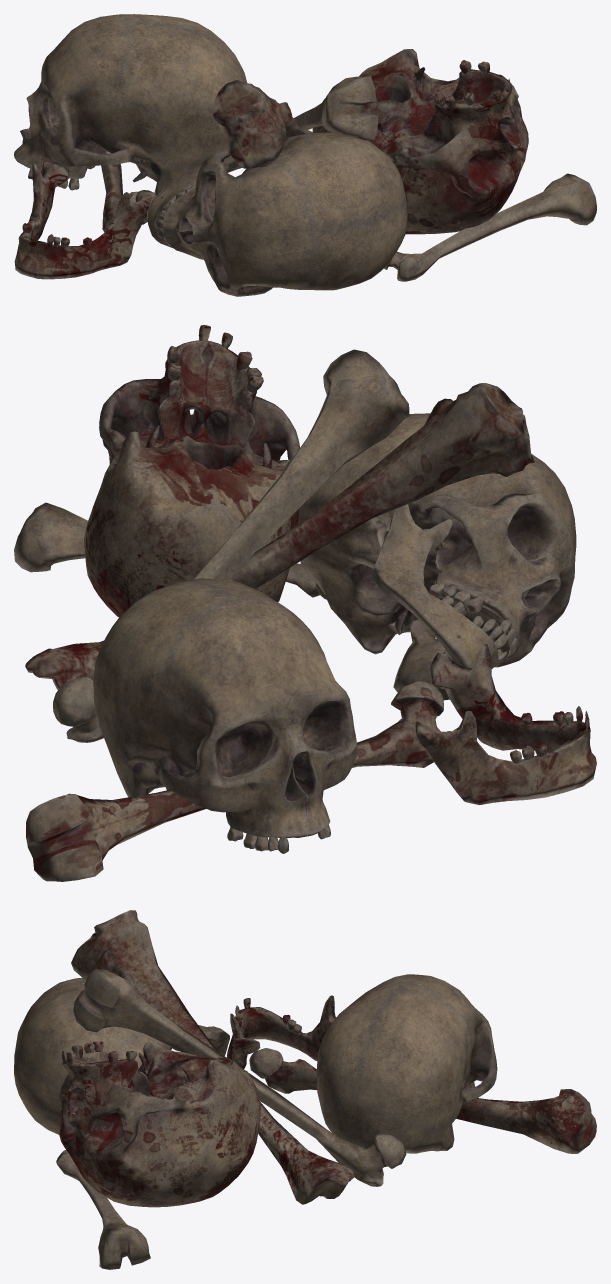
File: sm_HumanRemains_01_02.fbx
3 views of the same model, one above another, from view 1: azimuth 30°, elevation 25°; view 2: azimuth 150°, elevation 25°; view 3: azimuth 270°, elevation 25° (orthographic). The views are drawn at different scales.
Visible parts, largest first — view 1: sm_HumanRemains_01_02_LOD0; view 2: sm_HumanRemains_01_02_LOD0; view 3: sm_HumanRemains_01_02_LOD0.
Boxes of the visible parts, x1=… form: sm_HumanRemains_01_02_LOD0: x1=14, y1=14, x2=596, y2=296; sm_HumanRemains_01_02_LOD0: x1=14, y1=325, x2=596, y2=881; sm_HumanRemains_01_02_LOD0: x1=14, y1=910, x2=596, y2=1269.
Size of the model in its own units: 107 by 115 by 44.66.
